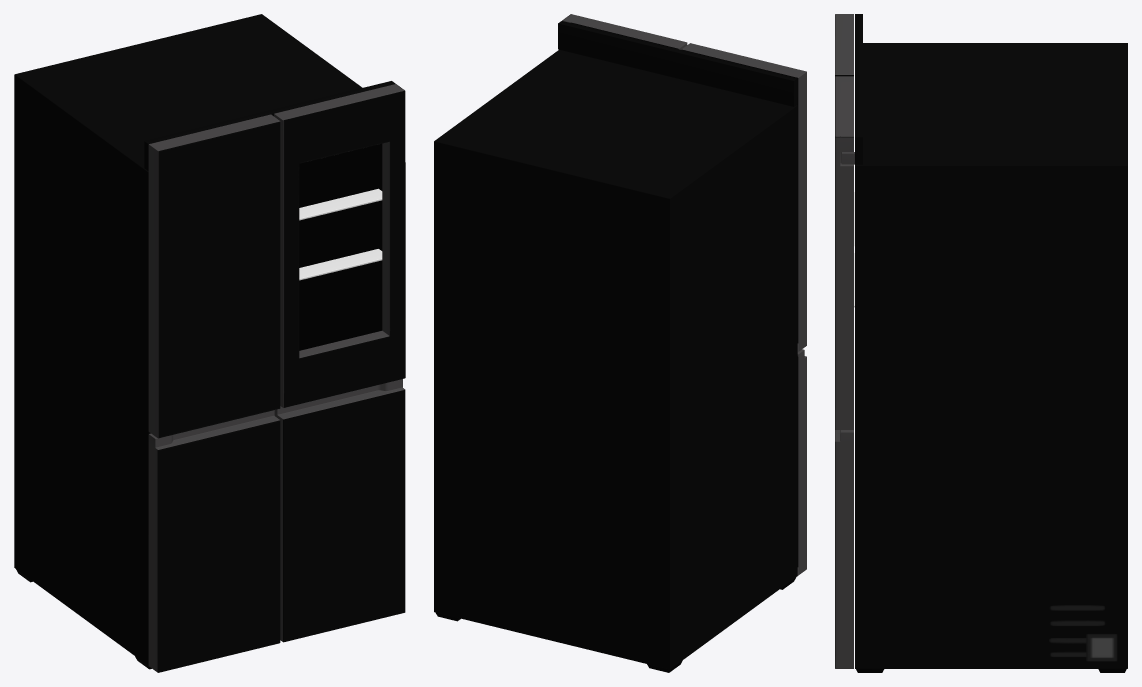
File: electronic_64_01.001.fbx
3 renders of one model, left to right at view 1: azimuth 30°, elevation 25°; view 2: azimuth 150°, elevation 25°; view 3: azimuth 270°, elevation 25°, orthographic. The views are drawn at different scales.
Parts seen in each view (by area): view 1: electronic_64_01.001; view 2: electronic_64_01.001; view 3: electronic_64_01.001.
Part boxes in pixels (x1=…): electronic_64_01.001: x1=14, y1=14, x2=405, y2=672; electronic_64_01.001: x1=434, y1=14, x2=806, y2=672; electronic_64_01.001: x1=835, y1=14, x2=1127, y2=672.
Size of the model in its own units: 91.4 by 186 by 91.84.
Materials: 1 (1 with a texture image).
